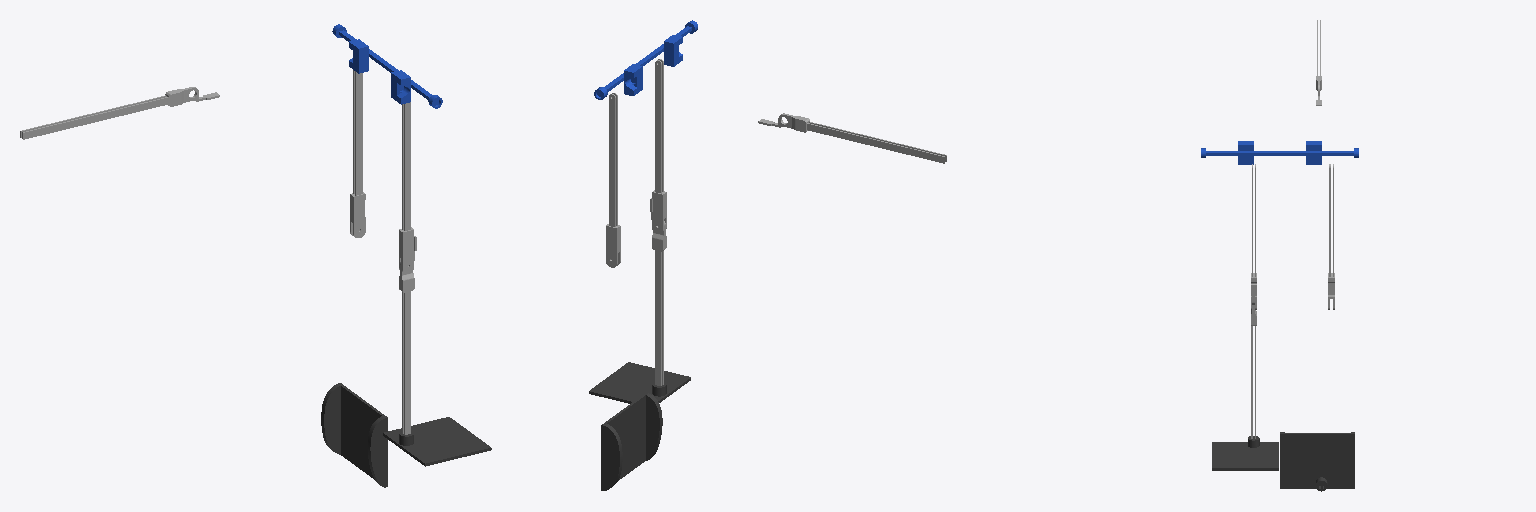
robot.urdf — pady:
<?xml version="1.0"?>
<!-- PaDy Bipedal Walker URDF
     ===================================================================
     MESH COORDINATE SYSTEM NOTE
     ===================================================================
     All STL files were exported from Fusion 360 as a single assembly in
     absolute CAD world coordinates (Y-up convention).  In the CAD frame:
       CAD X → URDF Y  (lateral, +left)
       CAD Y → URDF Z  (vertical, +up)
       CAD Z → URDF X  (sagittal, +forward)

     Every visual/collision <origin> therefore carries:
       rpy="1.5708 0 1.5708"   (Rx=90°, Rz=90° — maps CAD axes to URDF)
       xyz = −R · P_joint_cad  (cancels each joint's absolute CAD position)

     Joint positions read from STL bounding boxes (mm, CAD frame):
       base_link origin : (0,    1018, 0)
       hip joints       : (±107.86, 1001, 0)   [+x = left, −x = right]
       knee joints      : (±107.86,  501, 0)
       foot joints      : (±107.86,    1, 20)  [20 mm forward in CAD Z]

     Hip / knee joint origins and limits define the kinematics and are
     correct — only the visual/collision origins needed fixing.
-->

<robot name="pady">

  <!-- ═══════════════════════════════════════════════════════════════
       BASE LINK  (hip / pelvis)
       ═══════════════════════════════════════════════════════════════ -->
  <link name="base_link">
    <visual>
      <!-- CAD origin (0,1018,0) mm → offset (0, 0, -1.018) m -->
      <origin xyz="0 0 -1.018" rpy="1.5708 0 1.5708"/>
      <geometry>
        <mesh filename="package://pady_robot/meshes/visual/base_link.stl" scale="0.001 0.001 0.001"/>
      </geometry>
      <material name="blue"><color rgba="0.2 0.4 0.8 1.0"/></material>
    </visual>
    <collision>
      <origin xyz="0 0 -1.018" rpy="1.5708 0 1.5708"/>
      <geometry>
        <mesh filename="package://pady_robot/meshes/visual/base_link.stl" scale="0.001 0.001 0.001"/>
      </geometry>
    </collision>
    <inertial>
      <mass value="1.600"/>
      <origin xyz="0 0 -0.015" rpy="0 0 0"/>
      <inertia ixx="0.002133" ixy="0.0" ixz="0.0" iyy="0.006667" iyz="0.0" izz="0.008373"/>
    </inertial>
  </link>

  <!-- ═══════════════════════════════════════════════════════════════
       RIGHT LEG
       ═══════════════════════════════════════════════════════════════ -->

  <!-- Hip Joint Right – revolute, sagittal plane (Y-axis) -->
  <joint name="hip_joint_right" type="revolute">
    <parent link="base_link"/>
    <child link="thigh_right"/>
    <origin xyz="0 -0.10786 -0.017" rpy="0 0 0"/>
    <axis xyz="0 1 0"/>
    <limit effort="0" lower="-0.5236" upper="0.5236" velocity="10.0"/>
    <dynamics damping="0.001" friction="0.001"/>
  </joint>

  <link name="thigh_right">
    <visual>
      <!-- CAD joint (−107.86, 1001, 0) → offset (0, +0.10786, −1.001) -->
      <origin xyz="0 0.10786 -1.001" rpy="1.5708 0 1.5708"/>
      <geometry>
        <mesh filename="package://pady_robot/meshes/visual/thigh_right.stl" scale="0.001 0.001 0.001"/>
      </geometry>
      <material name="grey"><color rgba="0.7 0.7 0.7 1.0"/></material>
    </visual>
    <collision>
      <origin xyz="0 0.10786 -1.001" rpy="1.5708 0 1.5708"/>
      <geometry>
        <mesh filename="package://pady_robot/meshes/visual/thigh_right.stl" scale="0.001 0.001 0.001"/>
      </geometry>
    </collision>
    <inertial>
      <mass value="0.437"/>
      <origin xyz="0 0 -0.0475" rpy="0 0 0"/>
      <inertia ixx="0.009162" ixy="0.0" ixz="0.0" iyy="0.009162" iyz="0.0" izz="0.000058"/>
    </inertial>
  </link>

  <!-- Knee Joint Right
       lower=0.0  → fully extended = LOCKED against hyperextension (stance phase)
       upper=1.1345 (~65°) → backward flexion via positive Y rotation (swing phase)
       axis "0 1 0": Rx(+) swings shin tip in −X (backward) = correct knee flexion -->
  <joint name="knee_joint_right" type="revolute">
    <parent link="thigh_right"/>
    <child link="shin_right"/>
    <origin xyz="0 0 -0.500" rpy="0 0 0"/>
    <axis xyz="0 1 0"/>
    <limit effort="0" lower="0.0" upper="1.1345" velocity="10.0"/>
    <dynamics damping="0.001" friction="0.001"/>
  </joint>

  <link name="shin_right">
    <visual>
      <!-- CAD joint (−107.86, 501, 0) → offset (0, +0.10786, −0.501) -->
      <origin xyz="0 0.10786 -0.501" rpy="1.5708 0 1.5708"/>
      <geometry>
        <mesh filename="package://pady_robot/meshes/visual/shin_right.stl" scale="0.001 0.001 0.001"/>
      </geometry>
      <material name="grey"/>
    </visual>
    <collision>
      <origin xyz="0 0.10786 -0.501" rpy="1.5708 0 1.5708"/>
      <geometry>
        <mesh filename="package://pady_robot/meshes/visual/shin_right.stl" scale="0.001 0.001 0.001"/>
      </geometry>
    </collision>
    <inertial>
      <mass value="0.350"/>
      <origin xyz="0 0 -0.032" rpy="0 0 0"/>
      <inertia ixx="0.007338" ixy="0.0" ixz="0.0" iyy="0.007338" iyz="0.0" izz="0.000047"/>
    </inertial>
  </link>

  <!-- Foot Joint Right – fixed (no ankle DOF) -->
  <joint name="foot_joint_right" type="fixed">
    <parent link="shin_right"/>
    <child link="foot_right"/>
    <origin xyz="0.020 0 -0.500" rpy="0 0 0"/>
  </joint>

  <link name="foot_right">
    <visual>
      <!-- CAD joint (−107.86, 1, 20) → offset (−0.020, +0.10786, −0.001) -->
      <origin xyz="-0.020 0.10786 -0.001" rpy="1.5708 0 1.5708"/>
      <geometry>
        <mesh filename="package://pady_robot/meshes/visual/right_foot.stl" scale="0.001 0.001 0.001"/>
      </geometry>
      <material name="dark_grey"><color rgba="0.3 0.3 0.3 1.0"/></material>
    </visual>
    <collision>
      <origin xyz="-0.020 0.10786 -0.001" rpy="1.5708 0 1.5708"/>
      <geometry>
        <mesh filename="package://pady_robot/meshes/visual/right_foot.stl" scale="0.001 0.001 0.001"/>
      </geometry>
    </collision>
    <inertial>
      <mass value="0.175"/>
      <origin xyz="0.040 0 -0.015" rpy="0 0 0"/>
      <inertia ixx="0.000118" ixy="0.0" ixz="0.0" iyy="0.000299" iyz="0.0" izz="0.000391"/>
    </inertial>
  </link>

  <!-- ═══════════════════════════════════════════════════════════════
       LEFT LEG
       ═══════════════════════════════════════════════════════════════ -->

  <!-- Hip Joint Left – revolute, sagittal plane (Y-axis) -->
  <joint name="hip_joint_left" type="revolute">
    <parent link="base_link"/>
    <child link="thigh_left"/>
    <origin xyz="0 0.10786 -0.017" rpy="0 0 0"/>
    <axis xyz="0 1 0"/>
    <limit effort="0" lower="-0.5236" upper="0.5236" velocity="10.0"/>
    <dynamics damping="0.001" friction="0.001"/>
  </joint>

  <link name="thigh_left">
    <visual>
      <!-- CAD joint (+107.86, 1001, 0) → offset (0, −0.10786, −1.001) -->
      <origin xyz="0 -0.10786 -1.001" rpy="1.5708 0 1.5708"/>
      <geometry>
        <mesh filename="package://pady_robot/meshes/visual/thigh_left.stl" scale="0.001 0.001 0.001"/>
      </geometry>
      <material name="grey"/>
    </visual>
    <collision>
      <origin xyz="0 -0.10786 -1.001" rpy="1.5708 0 1.5708"/>
      <geometry>
        <mesh filename="package://pady_robot/meshes/visual/thigh_left.stl" scale="0.001 0.001 0.001"/>
      </geometry>
    </collision>
    <inertial>
      <mass value="0.437"/>
      <origin xyz="0 0 -0.0475" rpy="0 0 0"/>
      <inertia ixx="0.009162" ixy="0.0" ixz="0.0" iyy="0.009162" iyz="0.0" izz="0.000058"/>
    </inertial>
  </link>

  <!-- Knee Joint Left
       lower=0.0 → straight leg locked during stance
       upper=1.1345 (~65°) → backward flexion during swing -->
  <joint name="knee_joint_left" type="revolute">
    <parent link="thigh_left"/>
    <child link="shin_left"/>
    <origin xyz="0 0 -0.500" rpy="0 0 0"/>
    <axis xyz="0 1 0"/>
    <limit effort="0" lower="0.0" upper="1.1345" velocity="10.0"/>
    <dynamics damping="0.001" friction="0.001"/>
  </joint>

  <link name="shin_left">
    <visual>
      <!-- CAD joint (+107.86, 501, 0) → offset (0, −0.10786, −0.501) -->
      <origin xyz="0 -0.10786 -0.501" rpy="1.5708 0 1.5708"/>
      <geometry>
        <mesh filename="package://pady_robot/meshes/visual/shin_left.stl" scale="0.001 0.001 0.001"/>
      </geometry>
      <material name="grey"/>
    </visual>
    <collision>
      <origin xyz="0 -0.10786 -0.501" rpy="1.5708 0 1.5708"/>
      <geometry>
        <mesh filename="package://pady_robot/meshes/visual/shin_left.stl" scale="0.001 0.001 0.001"/>
      </geometry>
    </collision>
    <inertial>
      <mass value="0.350"/>
      <origin xyz="0 0 -0.032" rpy="0 0 0"/>
      <inertia ixx="0.007338" ixy="0.0" ixz="0.0" iyy="0.007338" iyz="0.0" izz="0.000047"/>
    </inertial>
  </link>

  <!-- Foot Joint Left – fixed (no ankle DOF) -->
  <joint name="foot_joint_left" type="fixed">
    <parent link="shin_left"/>
    <child link="foot_left"/>
    <origin xyz="0.020 0 -0.500" rpy="0 0 0"/>
  </joint>

  <link name="foot_left">
    <visual>
      <!-- CAD joint (+107.86, 1, 20) → offset (−0.020, −0.10786, −0.001) -->
      <origin xyz="-0.020 -0.10786 -0.001" rpy="1.5708 0 1.5708"/>
      <geometry>
        <mesh filename="package://pady_robot/meshes/visual/left_foot.stl" scale="0.001 0.001 0.001"/>
      </geometry>
      <material name="dark_grey"/>
    </visual>
    <collision>
      <origin xyz="-0.020 -0.10786 -0.001" rpy="1.5708 0 1.5708"/>
      <geometry>
        <mesh filename="package://pady_robot/meshes/visual/left_foot.stl" scale="0.001 0.001 0.001"/>
      </geometry>
    </collision>
    <inertial>
      <mass value="0.175"/>
      <origin xyz="0.040 0 -0.015" rpy="0 0 0"/>
      <inertia ixx="0.000118" ixy="0.0" ixz="0.0" iyy="0.000299" iyz="0.0" izz="0.000391"/>
    </inertial>
  </link>

  <!-- ═══════════════════════════════════════════════════════════════
       GAZEBO PROPERTIES
       ═══════════════════════════════════════════════════════════════ -->

  <!-- High foot friction so feet grip the slope surface -->
  <gazebo reference="foot_right">
    <mu1>0.8</mu1>
    <mu2>0.8</mu2>
    <kp>1000000.0</kp>
    <kd>100.0</kd>
  </gazebo>

  <gazebo reference="foot_left">
    <mu1>0.8</mu1>
    <mu2>0.8</mu2>
    <kp>1000000.0</kp>
    <kd>100.0</kd>
  </gazebo>

  <!-- Joint state publisher so Gazebo publishes joint angles to ROS -->
  <gazebo>
    <plugin filename="gz-sim-joint-state-publisher-system"
            name="gz::sim::systems::JointStatePublisher"/>
  </gazebo>

</robot>

--- Render facts (derived) ---
The picture shows the robot from 3 angles, left to right: view 1: azimuth 30°, elevation 25°; view 2: azimuth 150°, elevation 25°; view 3: azimuth 270°, elevation 25°; orthographic projection.
Robot: pady — 7 links, 6 joints (4 revolute, 2 fixed); root link base_link; default pose: every joint at zero.
Links seen in each view (by area): view 1: foot_left, foot_right, shin_left, base_link, thigh_left, thigh_right, shin_right; view 2: foot_left, foot_right, thigh_left, shin_left, thigh_right, base_link, shin_right; view 3: foot_left, foot_right, base_link, thigh_left, shin_right.
Link boxes in pixels (bbox=[...]): foot_left: bbox=[321, 383, 387, 487]; foot_right: bbox=[383, 417, 491, 466]; shin_left: bbox=[20, 87, 219, 139]; base_link: bbox=[332, 24, 442, 108]; thigh_left: bbox=[350, 70, 365, 237]; thigh_right: bbox=[399, 102, 413, 273]; shin_right: bbox=[399, 236, 416, 434]; foot_left: bbox=[601, 393, 662, 490]; foot_right: bbox=[589, 362, 690, 403]; thigh_left: bbox=[606, 93, 620, 267]; shin_left: bbox=[758, 113, 946, 163]; thigh_right: bbox=[652, 59, 666, 233]; base_link: bbox=[594, 20, 697, 99]; shin_right: bbox=[650, 198, 666, 385]; foot_left: bbox=[1280, 432, 1354, 491]; foot_right: bbox=[1212, 436, 1278, 470]; base_link: bbox=[1201, 141, 1358, 164]; thigh_left: bbox=[1328, 164, 1334, 309]; shin_right: bbox=[1251, 284, 1256, 438].
Size in the robot's own frame: 1.18 by 0.5065 by 1.21 metres.
Meshes: 7 distinct files referenced, 7 mesh visuals loaded (7 binary STL).
